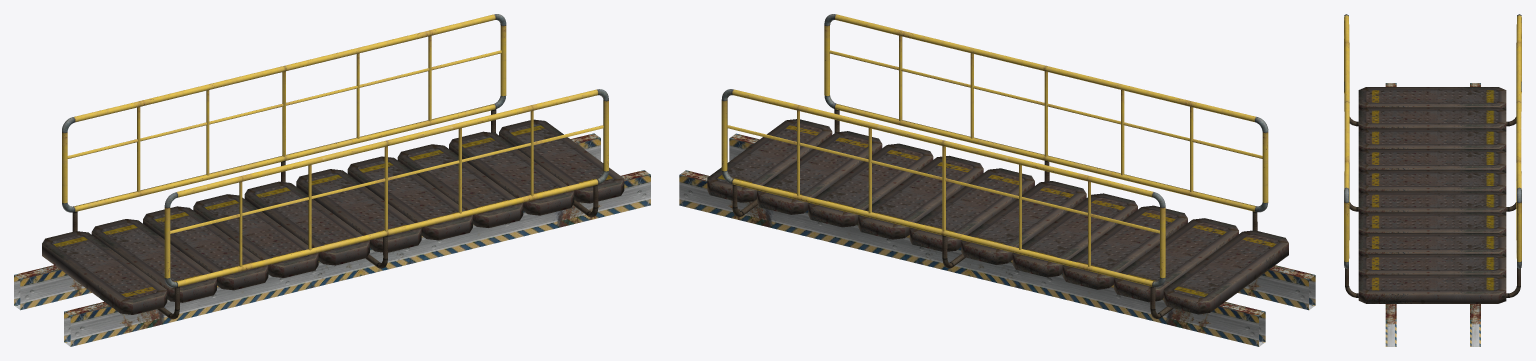
File: FLO_Walkway_Crossing_5m.FBX
3 renders of one model, left to right at view 1: azimuth 30°, elevation 25°; view 2: azimuth 150°, elevation 25°; view 3: azimuth 270°, elevation 25°, orthographic. The views are drawn at different scales.
Parts seen in each view (by area): view 1: FLO_Walkway_Crossing_5m_Plates, FLO_Walkway_Crossing_5m_Banister; view 2: FLO_Walkway_Crossing_5m_Plates, FLO_Walkway_Crossing_5m_Banister; view 3: FLO_Walkway_Crossing_5m_Plates, FLO_Walkway_Crossing_5m_Banister.
Part boxes in pixels (bbox=[...]): FLO_Walkway_Crossing_5m_Plates: bbox=[14, 119, 650, 346]; FLO_Walkway_Crossing_5m_Banister: bbox=[62, 14, 608, 319]; FLO_Walkway_Crossing_5m_Plates: bbox=[679, 119, 1315, 346]; FLO_Walkway_Crossing_5m_Banister: bbox=[721, 14, 1268, 318]; FLO_Walkway_Crossing_5m_Plates: bbox=[1358, 83, 1506, 346]; FLO_Walkway_Crossing_5m_Banister: bbox=[1344, 14, 1521, 297].
Size of the model in its own units: 623 by 156 by 197.
Materials: 2 (2 with a texture image).
